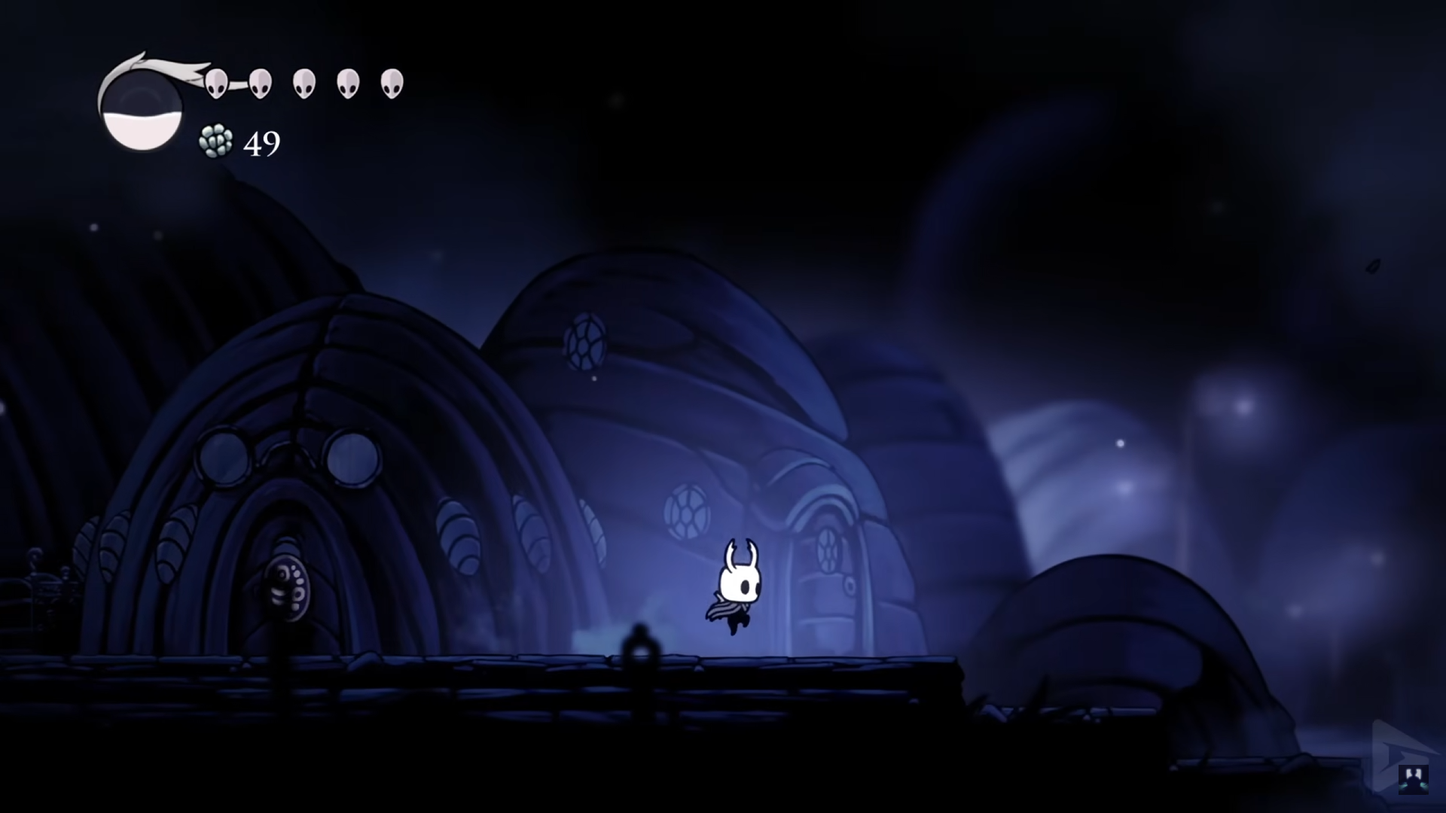HK: (708, 536, 766, 640)
